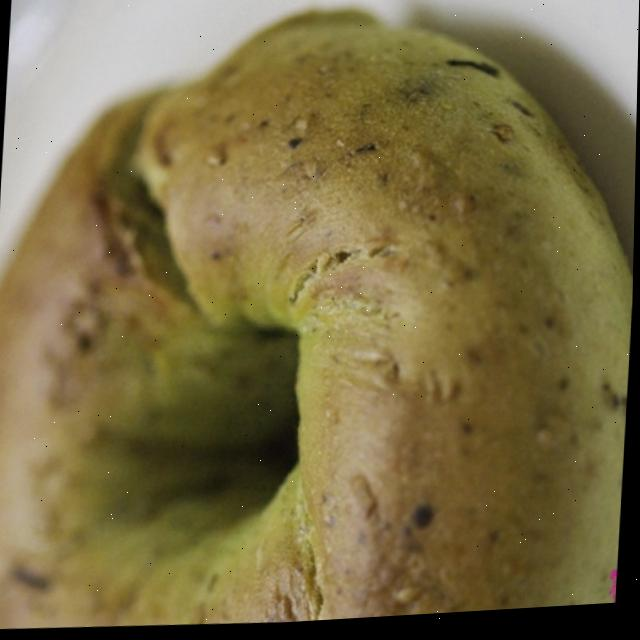面包点心: (0, 0, 636, 640)
